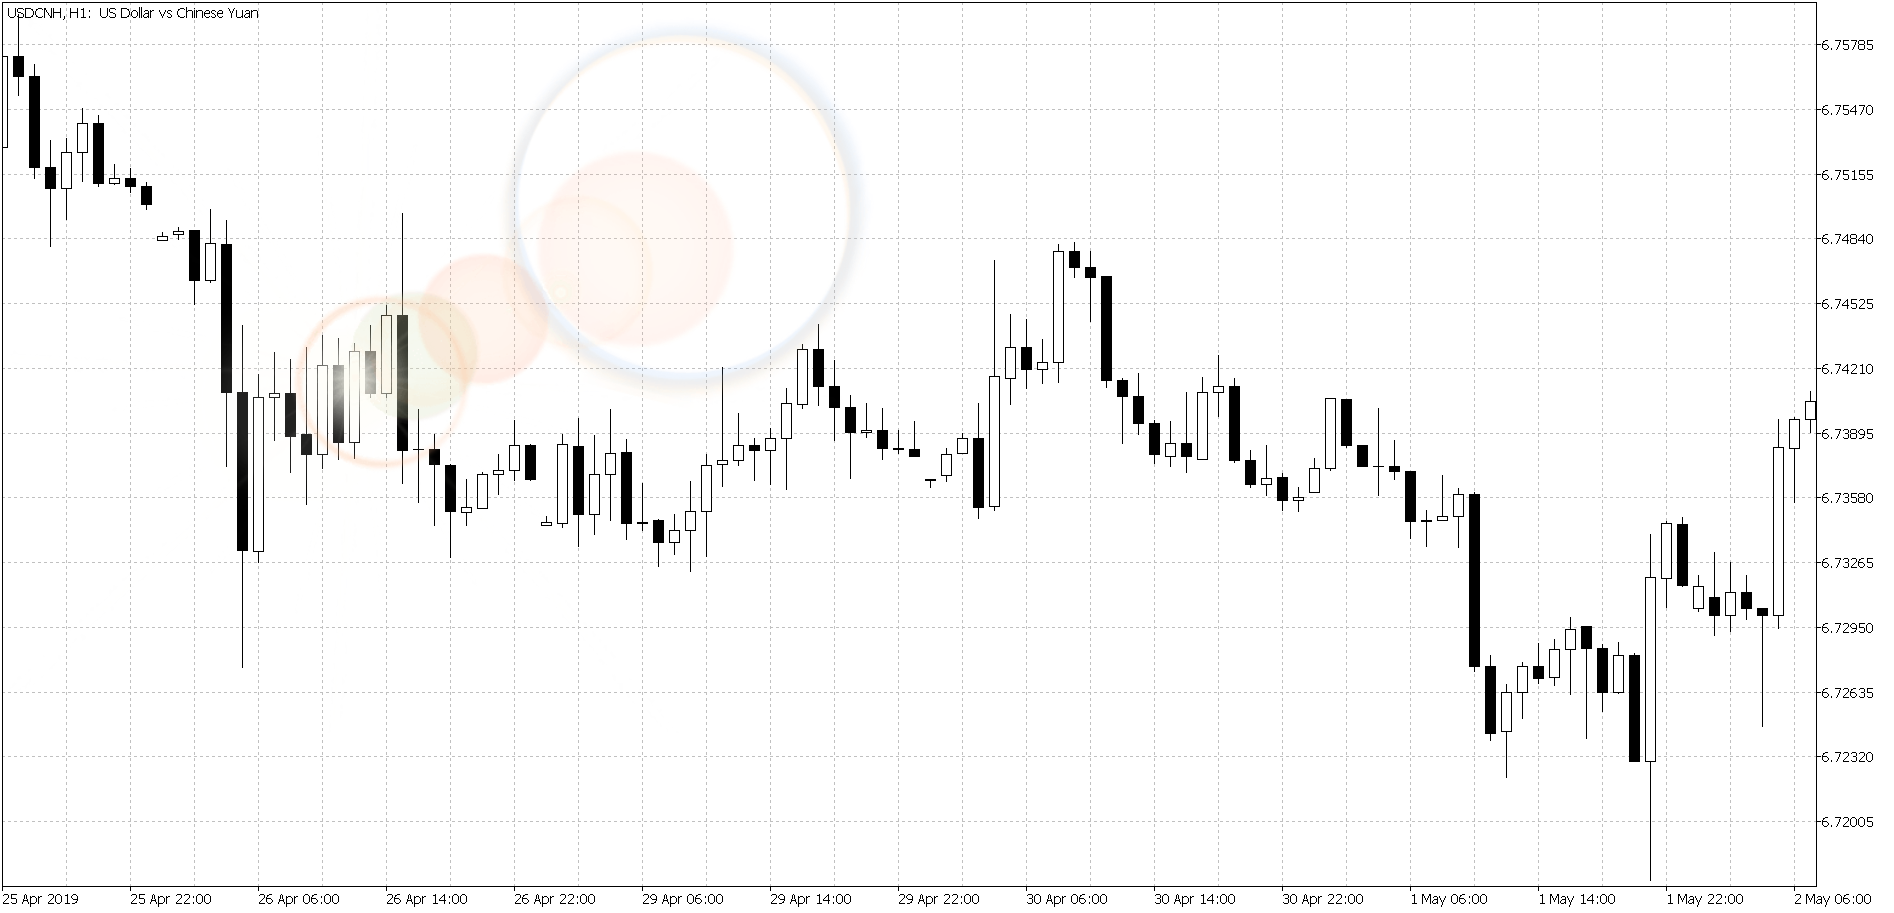hangingMan: (1751, 606, 1771, 723)
